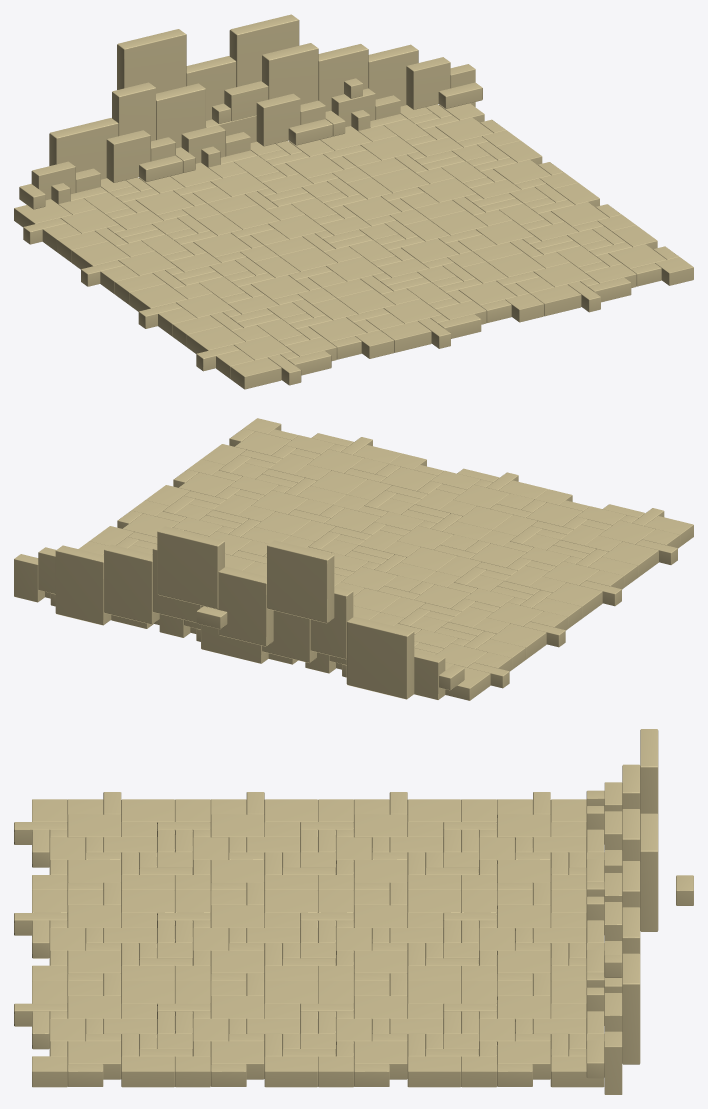
Rendered from field kari.fbx.
The picture shows the model from 3 angles, top to bottom: view 1: azimuth 30°, elevation 25°; view 2: azimuth 150°, elevation 25°; view 3: azimuth 270°, elevation 25°; orthographic projection. The views are drawn at different scales.
Visible parts, largest first — view 1: pCube382, pCube381, pCube377, pCube380, pCube373, pCube378, pCube379, pCube374, pCube364, pCube357, pCube371, pCube375 (+62 smaller); view 2: pCube380, pCube382, pCube381, pCube375, pCube378, pCube379, pCube374, pCube373, pCube372, pCube359, pCube377, pCube363 (+73 smaller); view 3: pCube381, pCube379, pCube538, pCube561, pCube590, pCube382, pCube553, pCube582, pCube530, pCube507, pCube515, pCube415 (+132 smaller).
Part boxes in pixels (x1,y1,x2,y2): pCube382: (117, 29, 186, 93); pCube381: (229, 14, 299, 86); pCube377: (262, 43, 318, 104); pCube380: (49, 118, 118, 179); pCube373: (156, 83, 205, 148); pCube378: (318, 44, 368, 111); pCube379: (368, 44, 418, 106); pCube374: (112, 82, 155, 141); pCube364: (406, 57, 450, 109); pCube357: (106, 130, 150, 182); pCube371: (256, 93, 300, 146); pCube375: (186, 56, 236, 120); pCube380: (346, 616, 414, 699); pCube382: (267, 540, 334, 623); pCube381: (157, 526, 224, 609); pCube375: (218, 566, 273, 646); pCube378: (104, 544, 159, 624); pCube379: (55, 545, 110, 625); pCube374: (310, 586, 353, 659); pCube373: (262, 610, 316, 662); pCube372: (201, 624, 268, 663); pCube359: (414, 650, 445, 699); pCube377: (152, 546, 201, 622); pCube363: (14, 554, 44, 602); pCube381: (640, 813, 658, 931); pCube379: (622, 953, 640, 1064); pCube538: (407, 1056, 461, 1087); pCube561: (264, 1056, 318, 1087); pCube590: (121, 1056, 174, 1087); pCube382: (640, 729, 658, 814); pCube553: (210, 1041, 264, 1079); pCube582: (67, 1041, 121, 1079); pCube530: (354, 1041, 407, 1079); pCube507: (497, 1041, 550, 1079); pCube515: (550, 1056, 604, 1087); pCube415: (210, 950, 264, 973).
Size of the model in its own units: 1140 by 301 by 1140.
